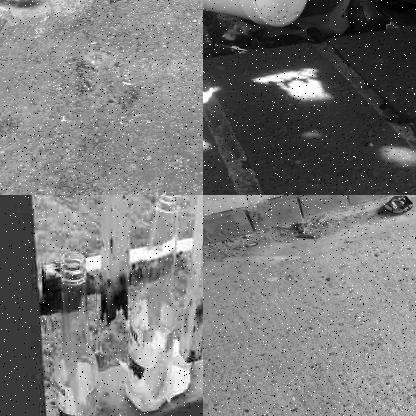glass: (129, 195, 183, 406), (53, 252, 103, 415)
metal: (380, 195, 415, 220)
plastic: (203, 0, 312, 20)
